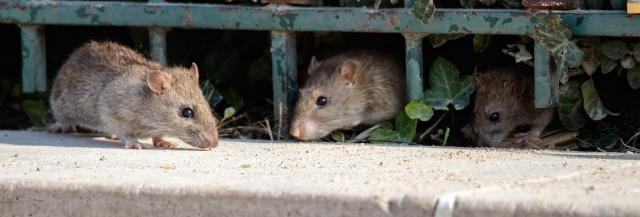rat: (41, 31, 222, 152), (461, 44, 605, 156), (278, 40, 412, 144)
